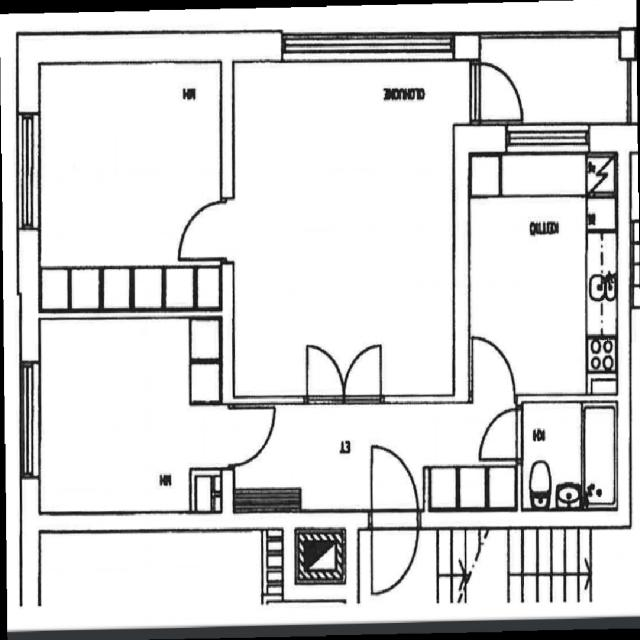door: (371, 442, 419, 529), (371, 509, 419, 595), (177, 199, 235, 260), (221, 408, 275, 464), (469, 63, 521, 120), (472, 335, 514, 401), (306, 339, 344, 402), (344, 339, 381, 402), (480, 408, 523, 459)
